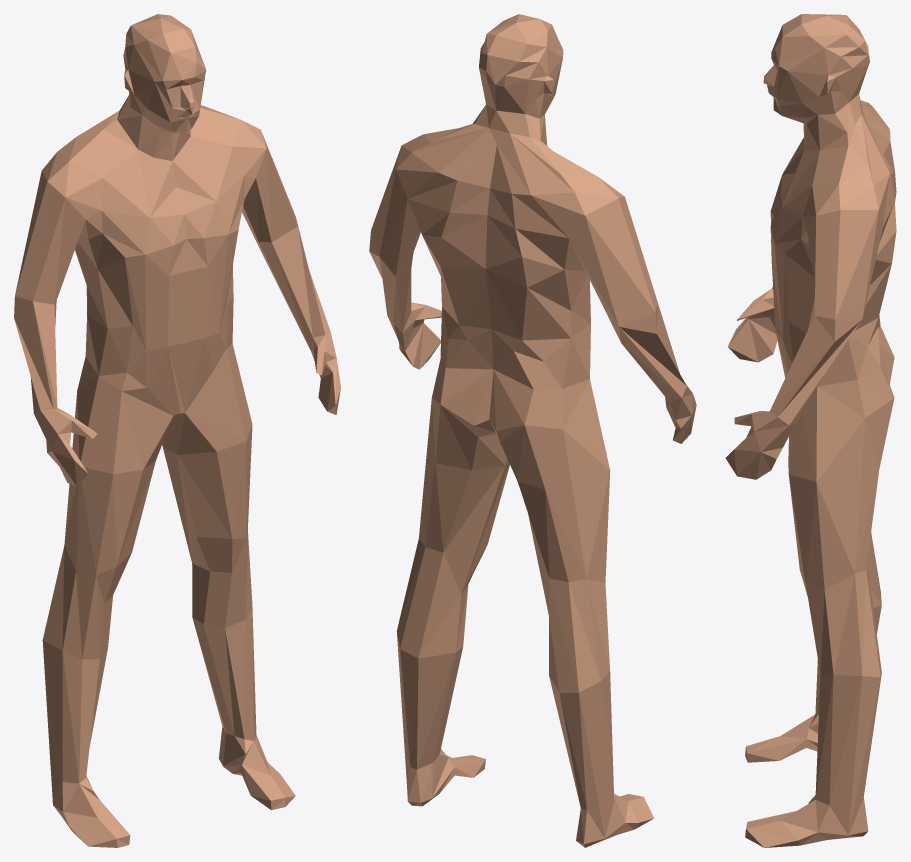
Rendered from PersonB.FBX.
3 views of the same model, side by side, from view 1: azimuth 30°, elevation 25°; view 2: azimuth 150°, elevation 25°; view 3: azimuth 270°, elevation 25° (orthographic).
Parts seen in each view (by area): view 1: PersonB; view 2: PersonB; view 3: PersonB.
Part boxes in pixels (box(x1,y1,x2,y2)): PersonB: box(14, 14, 340, 847); PersonB: box(369, 14, 696, 847); PersonB: box(725, 14, 896, 847).
Size of the model in its own units: 26.81 by 68.7 by 13.63.
